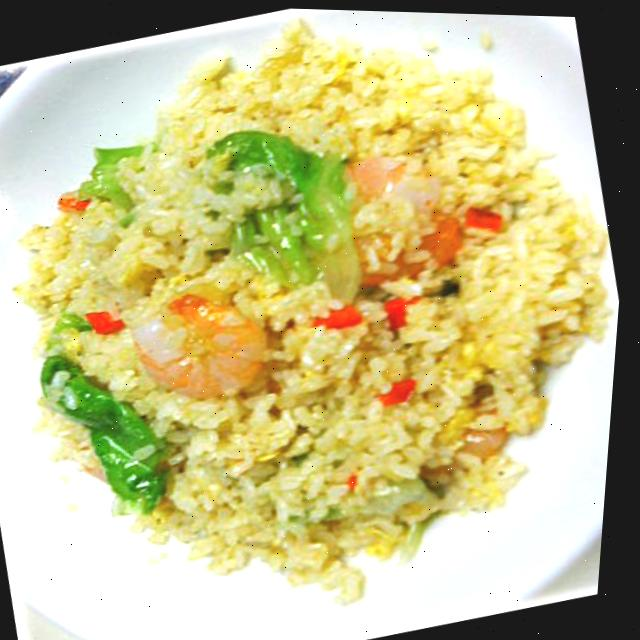米饭主食: (0, 0, 640, 631)
